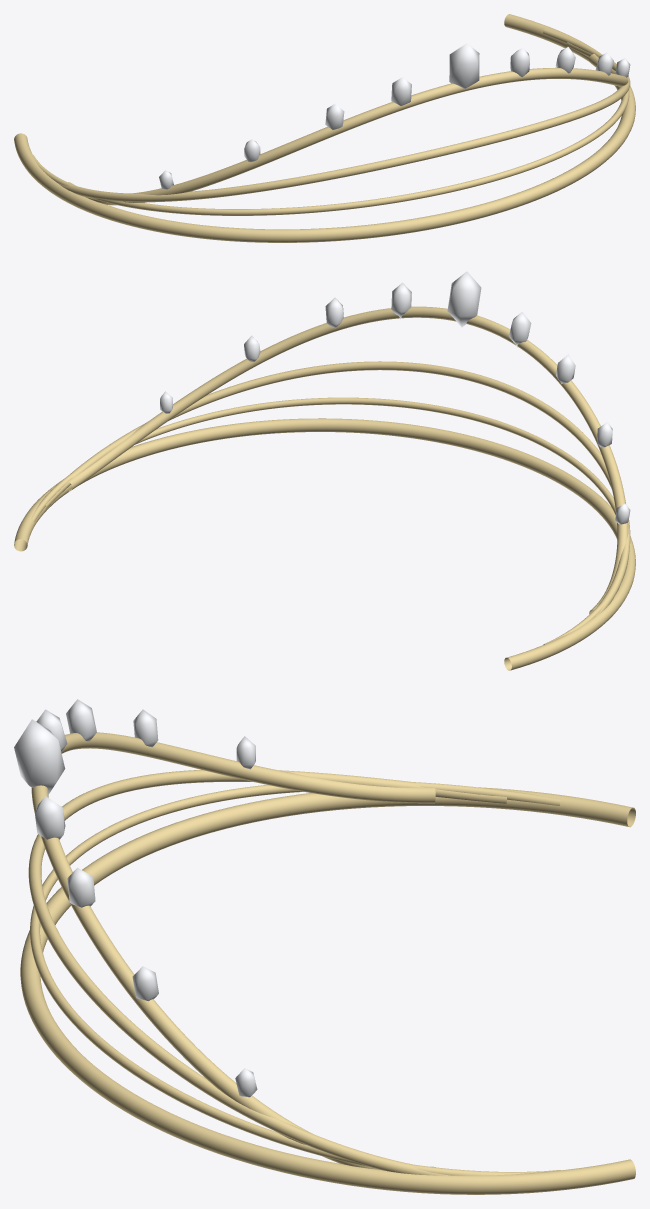
The model's file is tiara-xva.glb.
The picture shows the model from 3 angles, top to bottom: view 1: azimuth 30°, elevation 25°; view 2: azimuth 150°, elevation 25°; view 3: azimuth 270°, elevation 25°; orthographic projection. The views are drawn at different scales.
Parts seen in each view (by area): view 1: Tiara_Editorial; view 2: Tiara_Editorial; view 3: Tiara_Editorial.
Part boxes in pixels (x1,y1,x2,y2): Tiara_Editorial: [14, 14, 635, 242]; Tiara_Editorial: [14, 271, 635, 670]; Tiara_Editorial: [14, 699, 635, 1194].
Size of the model in its own units: 2.04 by 0.6808 by 1.35.
